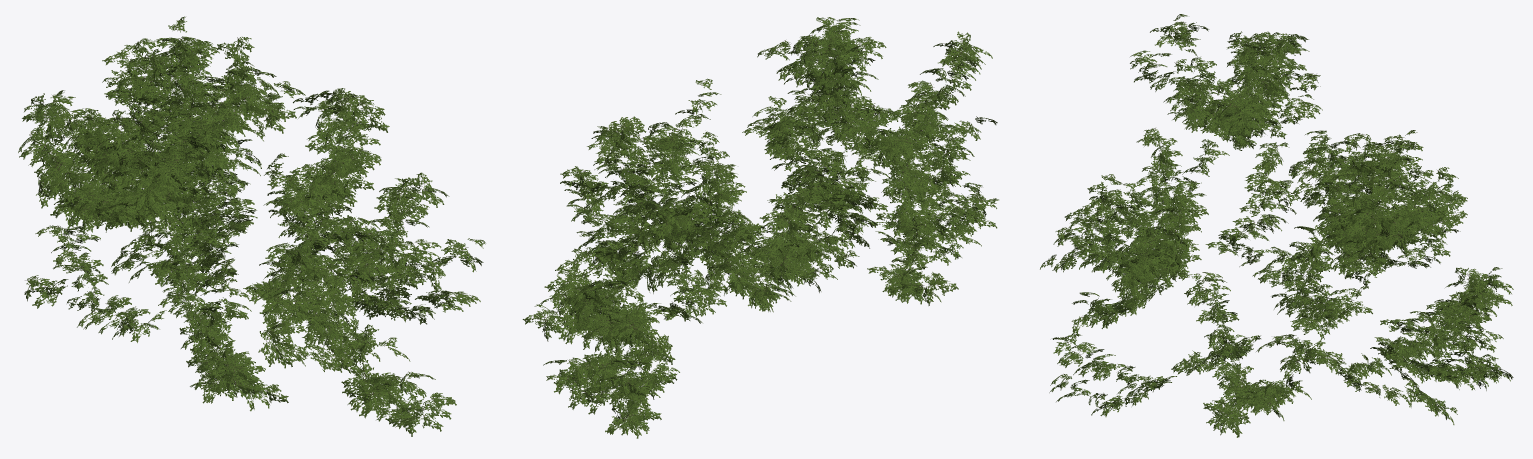
File: oaks_feuilles.glb
The picture shows the model from 3 angles, left to right: view 1: azimuth 30°, elevation 25°; view 2: azimuth 150°, elevation 25°; view 3: azimuth 270°, elevation 25°; orthographic projection. The views are drawn at different scales.
Visible parts, largest first — view 1: foliage.001; view 2: foliage.001; view 3: foliage.001.
Boxes of the visible parts, left/top/right/bottom form: foliage.001: left=18, top=16, right=485, bottom=436; foliage.001: left=522, top=17, right=998, bottom=438; foliage.001: left=1040, top=14, right=1513, bottom=437.
Size of the model in its own units: 114 by 89.48 by 120.
Materials: 1 (1 with a texture image).
